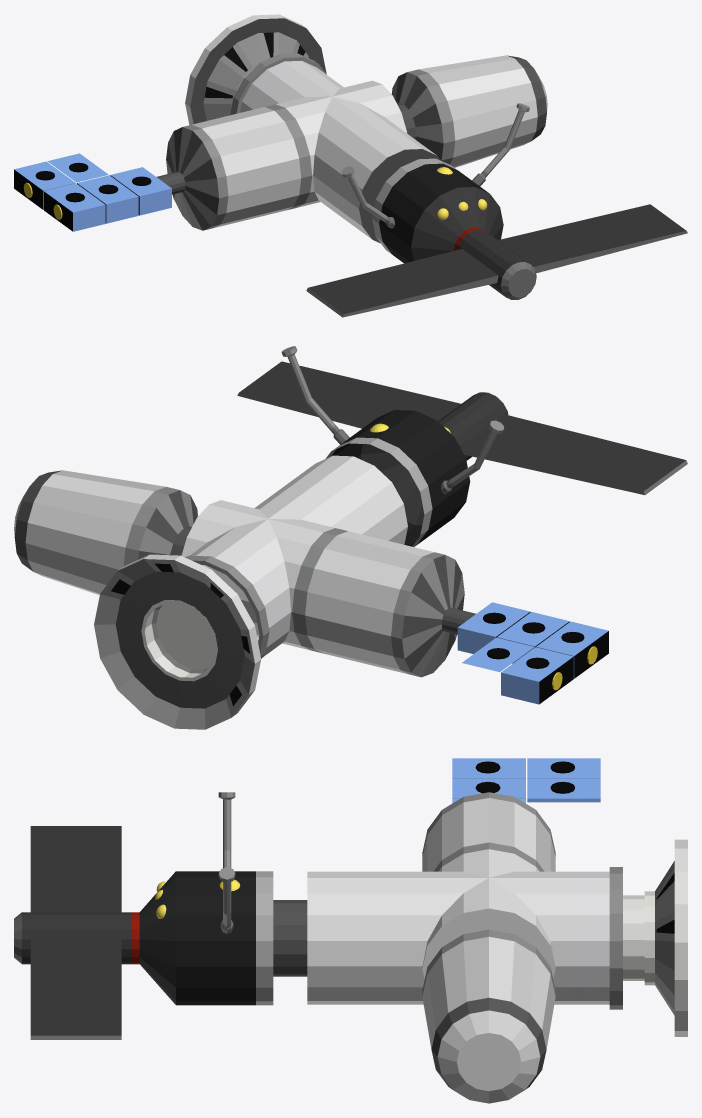
File: Satelite.glb
The picture shows the model from 3 angles, top to bottom: view 1: azimuth 30°, elevation 25°; view 2: azimuth 150°, elevation 25°; view 3: azimuth 270°, elevation 25°; orthographic projection. The views are drawn at different scales.
Visible parts, largest first — view 1: Satelite; view 2: Satelite; view 3: Satelite.
Boxes of the visible parts, x1=… form: Satelite: x1=14, y1=14, x2=687, y2=317; Satelite: x1=14, y1=346, x2=687, y2=729; Satelite: x1=14, y1=758, x2=687, y2=1103.
Bounding box in the file's own units: 10.38 × 3.49 × 10.12.
1 material, 1 textured.
